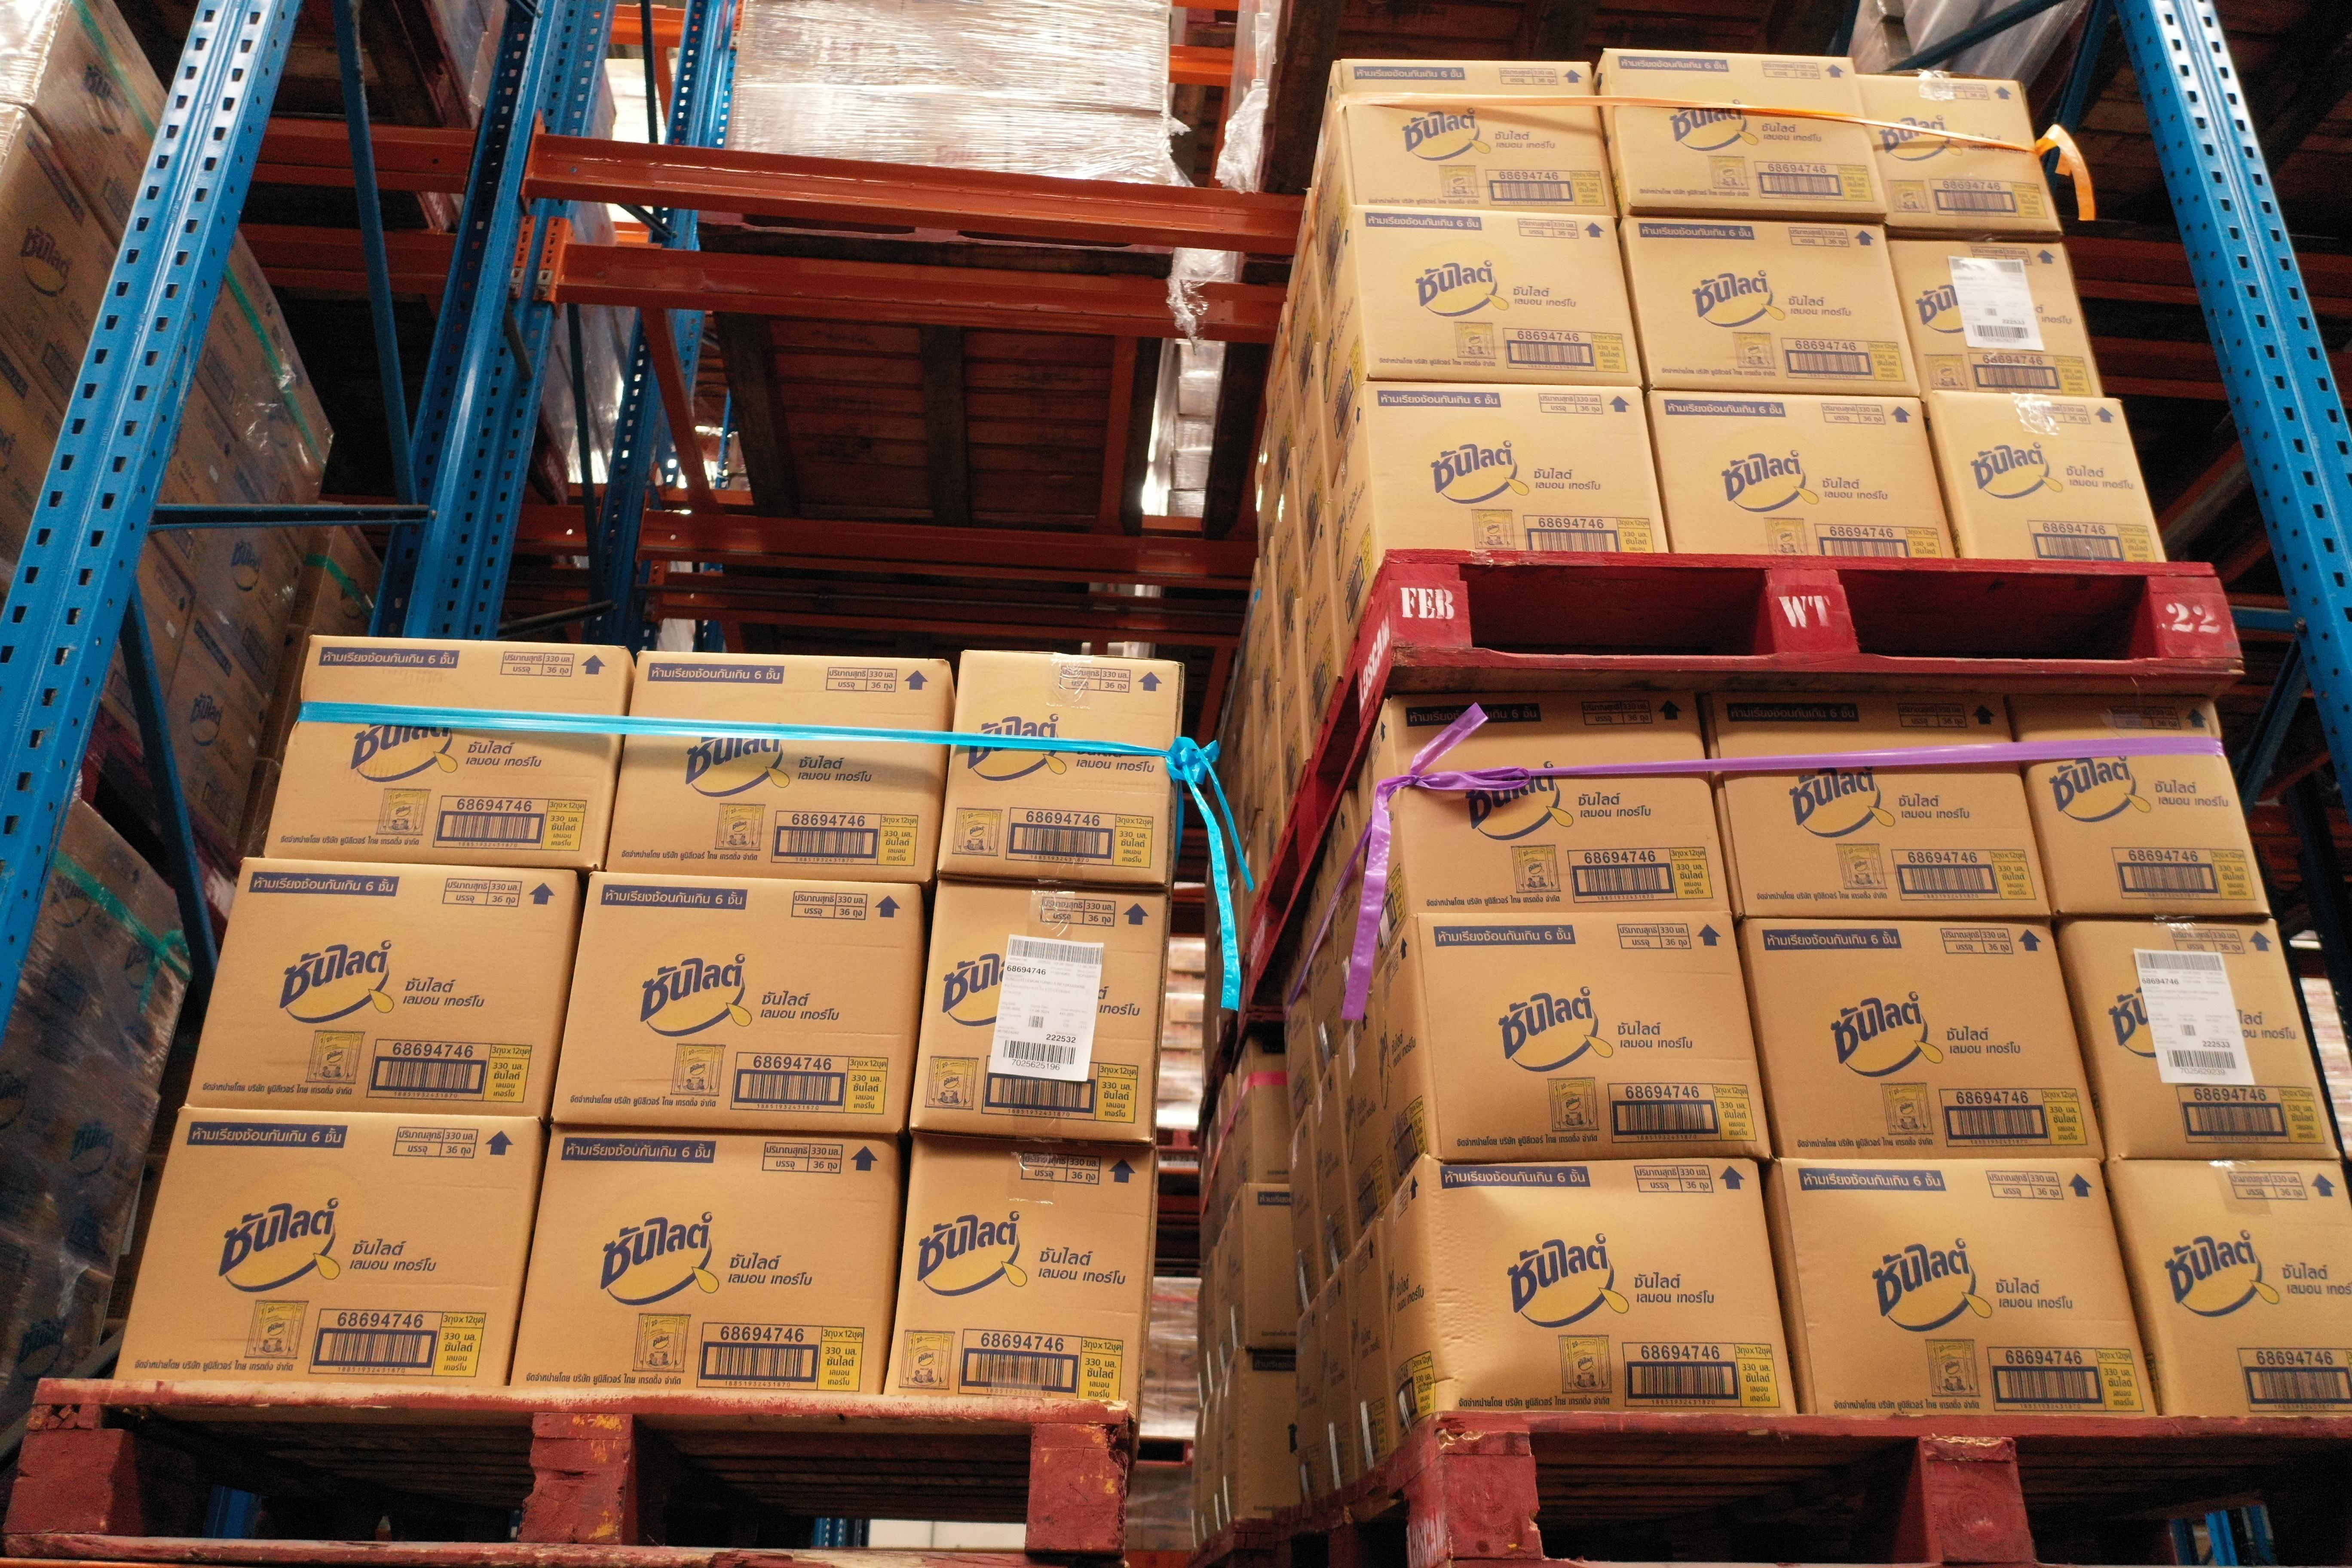-: (112, 1106, 541, 1395), (511, 1123, 898, 1402), (1771, 1158, 2159, 1421), (185, 857, 576, 1118), (1421, 1157, 1799, 1421), (549, 870, 920, 1134), (1412, 912, 1773, 1160), (1741, 915, 2103, 1160), (264, 637, 628, 870), (604, 651, 948, 884), (1704, 691, 2051, 920), (1384, 688, 1731, 915), (885, 1132, 1157, 1410), (906, 878, 1169, 1146), (2058, 917, 2340, 1162), (2103, 1162, 2352, 1423), (940, 647, 1181, 887), (2011, 698, 2271, 917), (1643, 385, 1960, 563), (1617, 217, 1925, 397), (1349, 201, 1643, 385), (1363, 383, 1669, 558), (1608, 47, 1888, 217), (1337, 56, 1619, 217), (1921, 392, 2166, 563), (1885, 233, 2107, 397), (1862, 73, 2067, 234)
